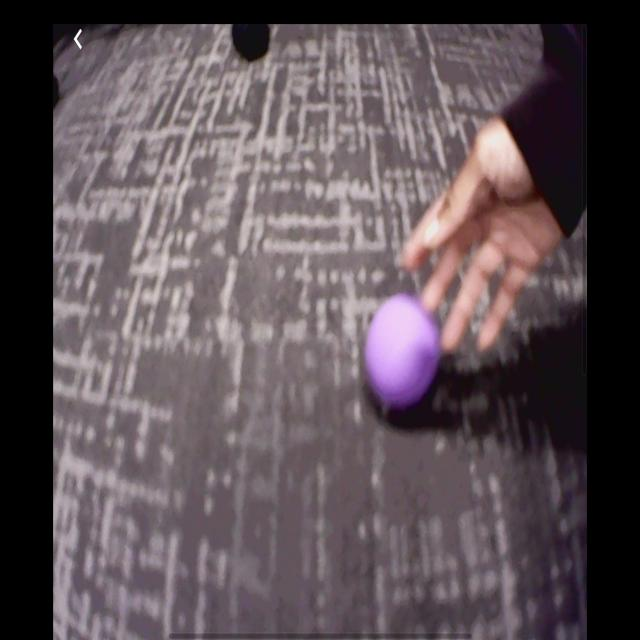ball: (364, 292, 443, 413)
